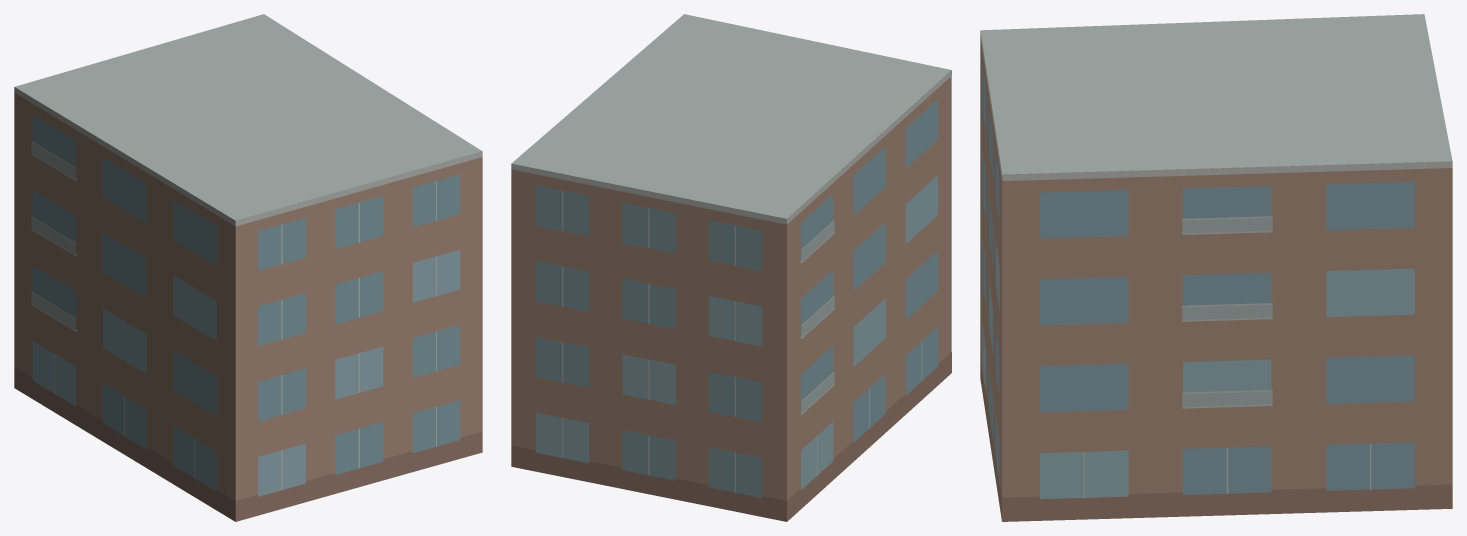
File: survey-upis-32704970.glb
3 views of the same model, side by side, from view 1: azimuth 30°, elevation 25°; view 2: azimuth 150°, elevation 25°; view 3: azimuth 270°, elevation 25° (orthographic). The views are drawn at different scales.
Visible parts, largest first — view 1: survey-upis-32704970.tmp; view 2: survey-upis-32704970.tmp; view 3: survey-upis-32704970.tmp.
Boxes of the visible parts, bbox=[...] form: survey-upis-32704970.tmp: bbox=[14, 14, 482, 521]; survey-upis-32704970.tmp: bbox=[511, 14, 951, 521]; survey-upis-32704970.tmp: bbox=[980, 14, 1452, 521].
Bounding box in the file's own units: 12.7 × 12.8 × 15.78.
